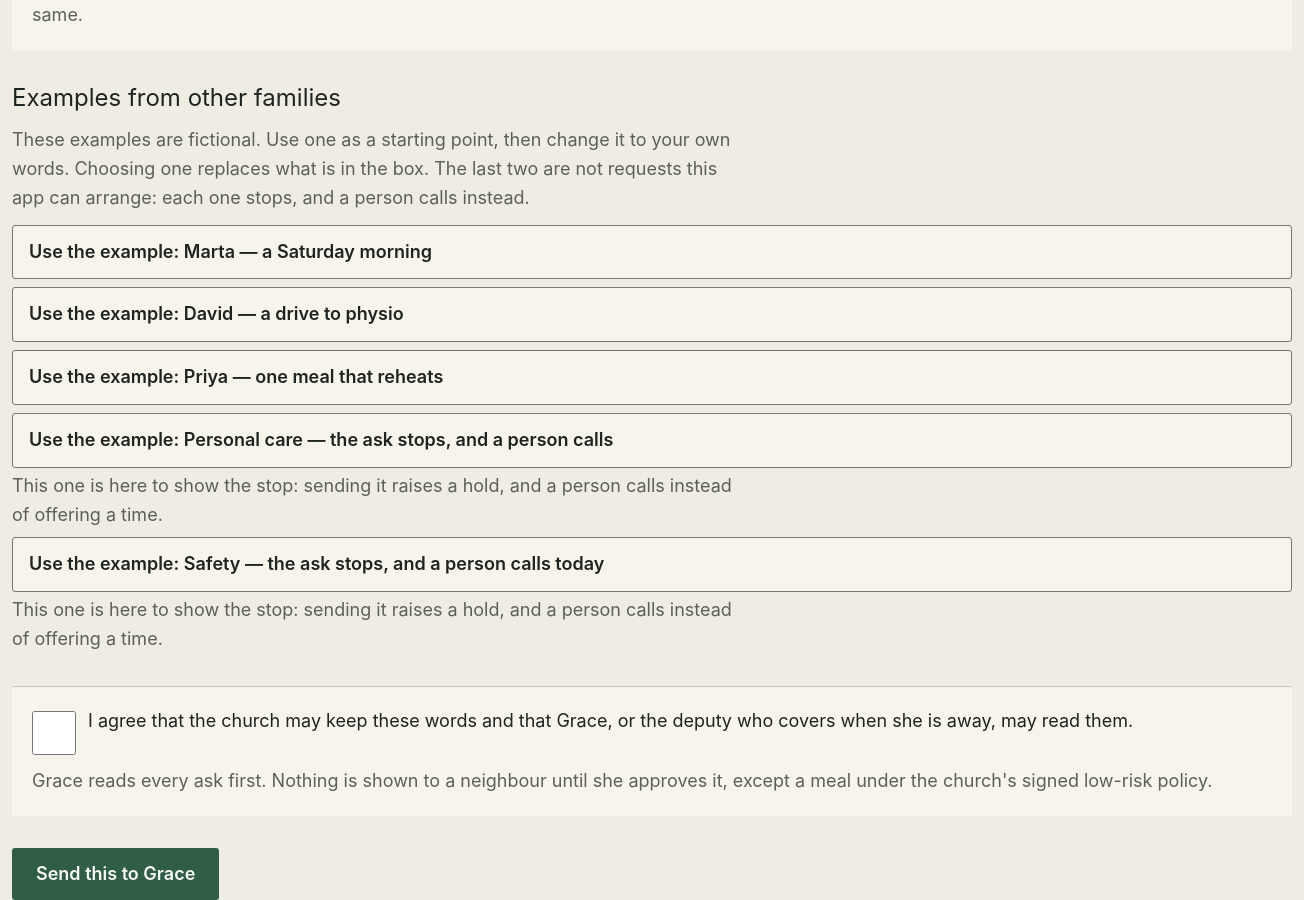
Test: AskForm submission › shows an associated error and creates nothing when the box is empty
(page scrolled)
Click the button "Send this to Grace".
click(116, 874)  # box x1=12 y1=848 x2=219 y2=899
(page scrolled)
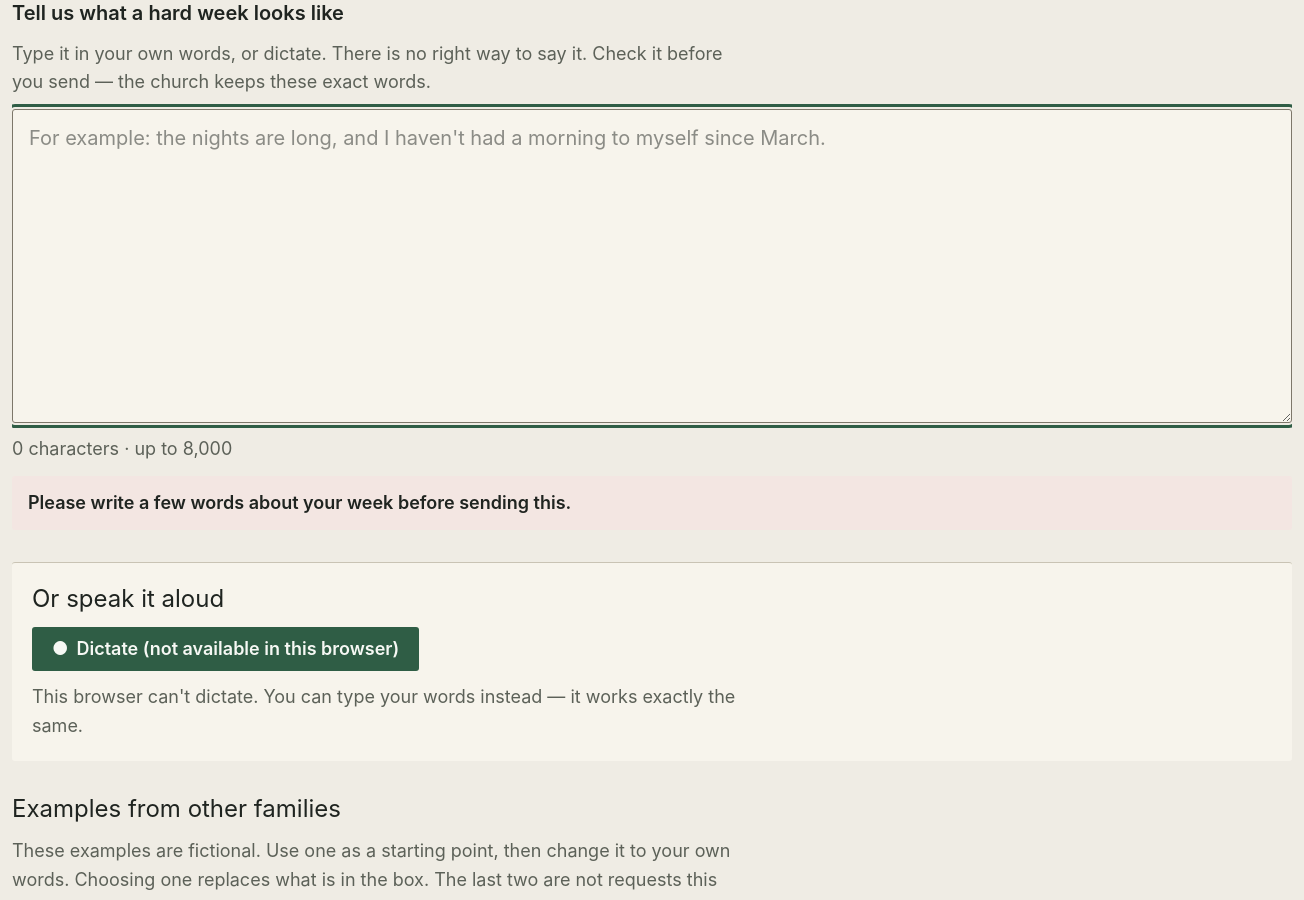
Expected: the message "Please write a few words about your week before sending this." is shown, x1=12 y1=476 x2=1292 y2=530
